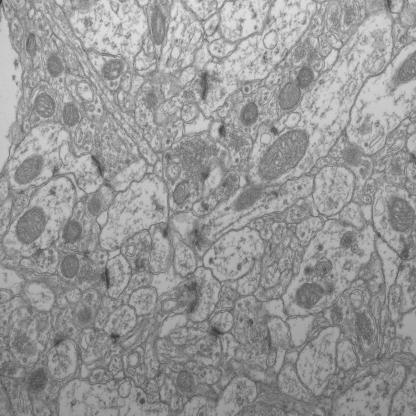mitochondria: (256, 125, 310, 182), (14, 206, 48, 245), (389, 196, 416, 235), (232, 186, 267, 216), (293, 281, 325, 311), (15, 152, 44, 185), (150, 4, 168, 49), (278, 81, 302, 111), (238, 99, 260, 128), (100, 58, 125, 83), (60, 100, 81, 129), (60, 253, 80, 283), (33, 92, 55, 119), (62, 218, 83, 246), (296, 64, 316, 92), (27, 366, 48, 392), (46, 53, 66, 80), (171, 180, 191, 205), (177, 369, 194, 395), (24, 32, 38, 58)
